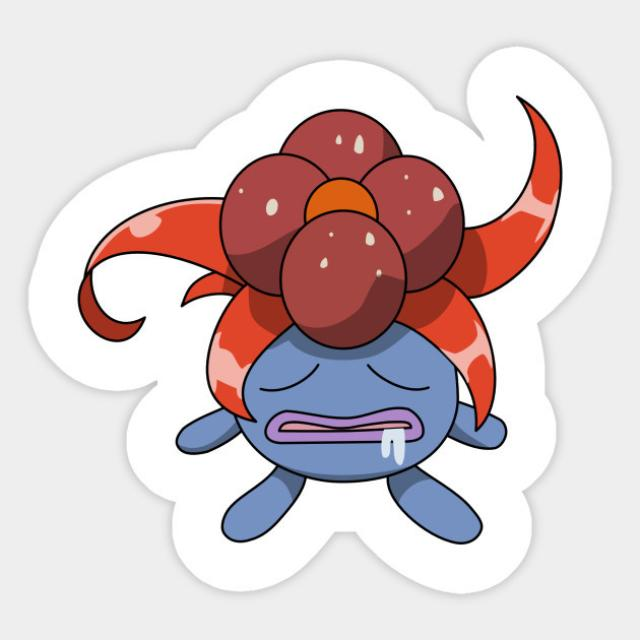Gloom: (191, 106, 501, 551)
